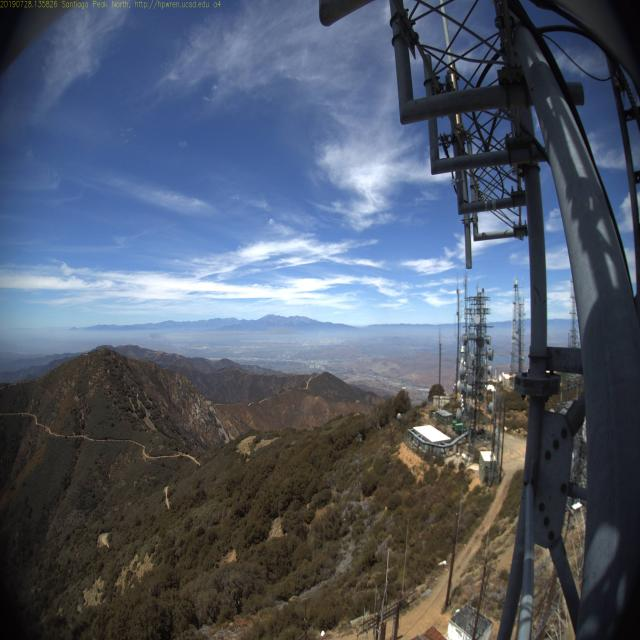smoke: (140, 321, 168, 352)
